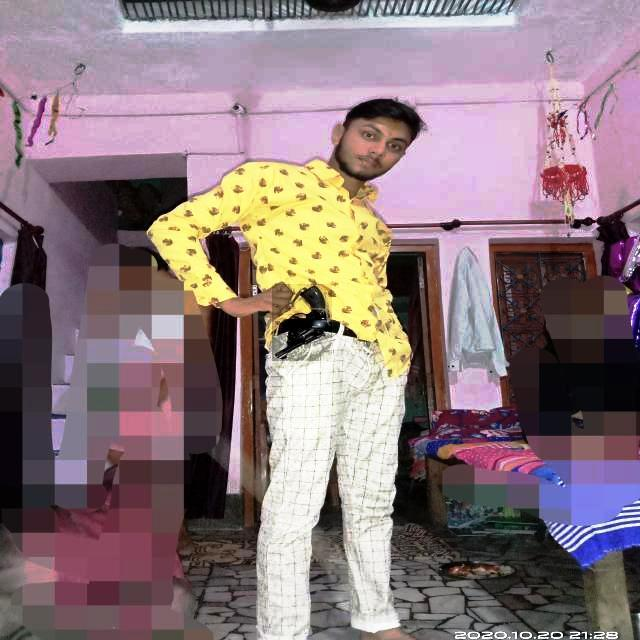Gun: (266, 288, 346, 364)
